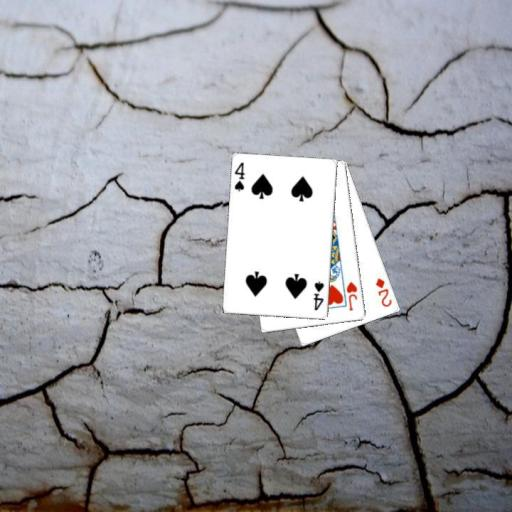2D: (373, 275, 394, 309)
4S: (311, 278, 326, 312), (231, 159, 246, 193)
JH: (344, 279, 359, 312)
